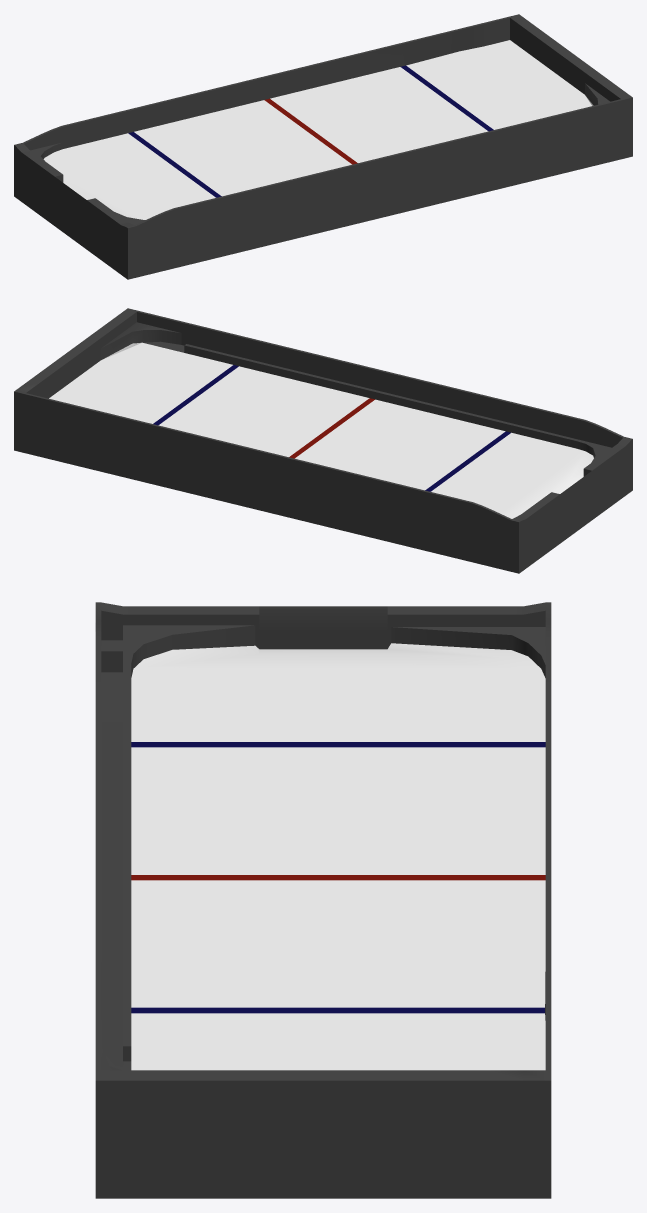
Rendered from Pinball Table.fbx.
3 renders of one model, top to bottom at view 1: azimuth 30°, elevation 25°; view 2: azimuth 150°, elevation 25°; view 3: azimuth 270°, elevation 25°, orthographic. The views are drawn at different scales.
Visible parts, largest first — view 1: Pinball; view 2: Pinball; view 3: Pinball.
Boxes of the visible parts, left/top/right/bottom form: Pinball: left=14, top=14, right=632, bottom=279; Pinball: left=14, top=308, right=632, bottom=573; Pinball: left=95, top=602, right=551, bottom=1198.
Bounding box in the file's own units: 179 × 70 × 20.
